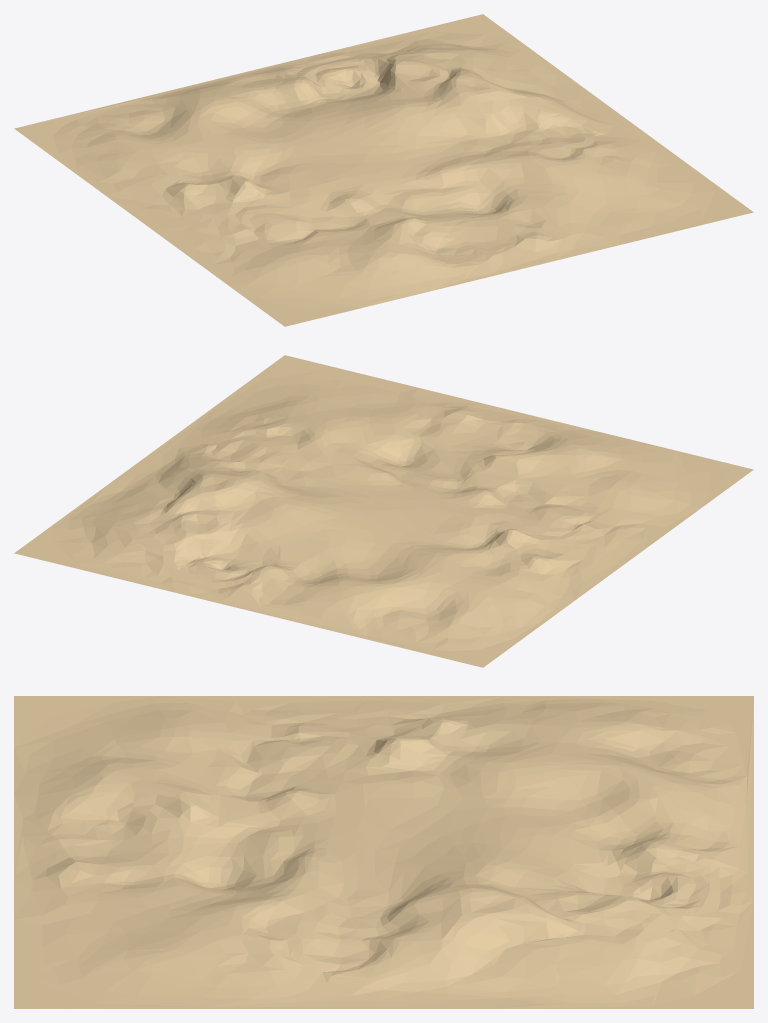
The model's file is mars3.gltf.
3 views of the same model, one above another, from view 1: azimuth 30°, elevation 25°; view 2: azimuth 150°, elevation 25°; view 3: azimuth 270°, elevation 25° (orthographic). The views are drawn at different scales.
Parts seen in each view (by area): view 1: Landscape.001; view 2: Landscape.001; view 3: Landscape.001.
Part boxes in pixels (left/top/right/bottom): Landscape.001: left=14, top=14, right=753, bottom=326; Landscape.001: left=14, top=355, right=753, bottom=667; Landscape.001: left=14, top=696, right=753, bottom=1008.
Bounding box in the file's own units: 50 × 3.36 × 50.
